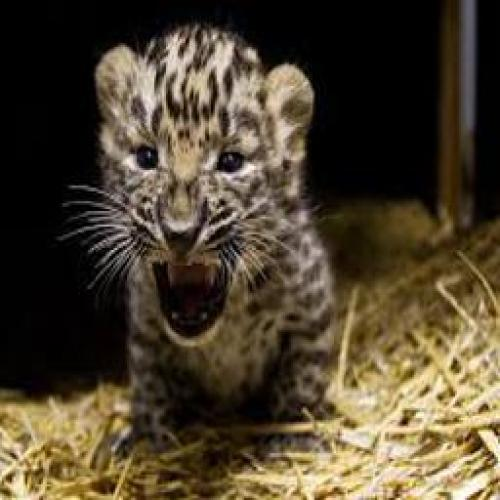amur_leopard-endangered: (91, 21, 338, 459)
